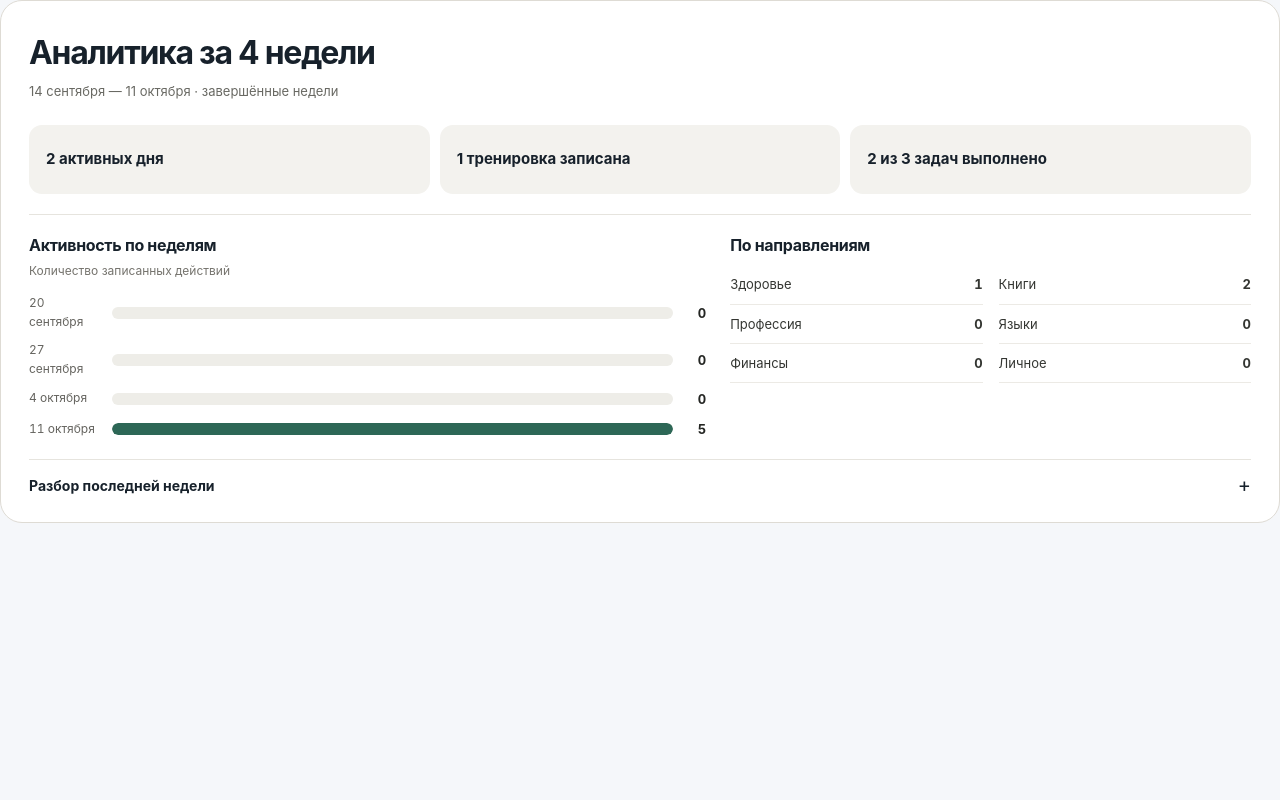
analytics shows real four-week trends and retains the training review inside details
Expected: the text "2 активных дня" is shown, [29, 125, 430, 194]
Expected: the text "1 тренировка записана" is shown, [440, 125, 840, 194]
Click the heading "Разбор последней недели" at (122, 485), box [29, 477, 215, 494]
(page scrolled)
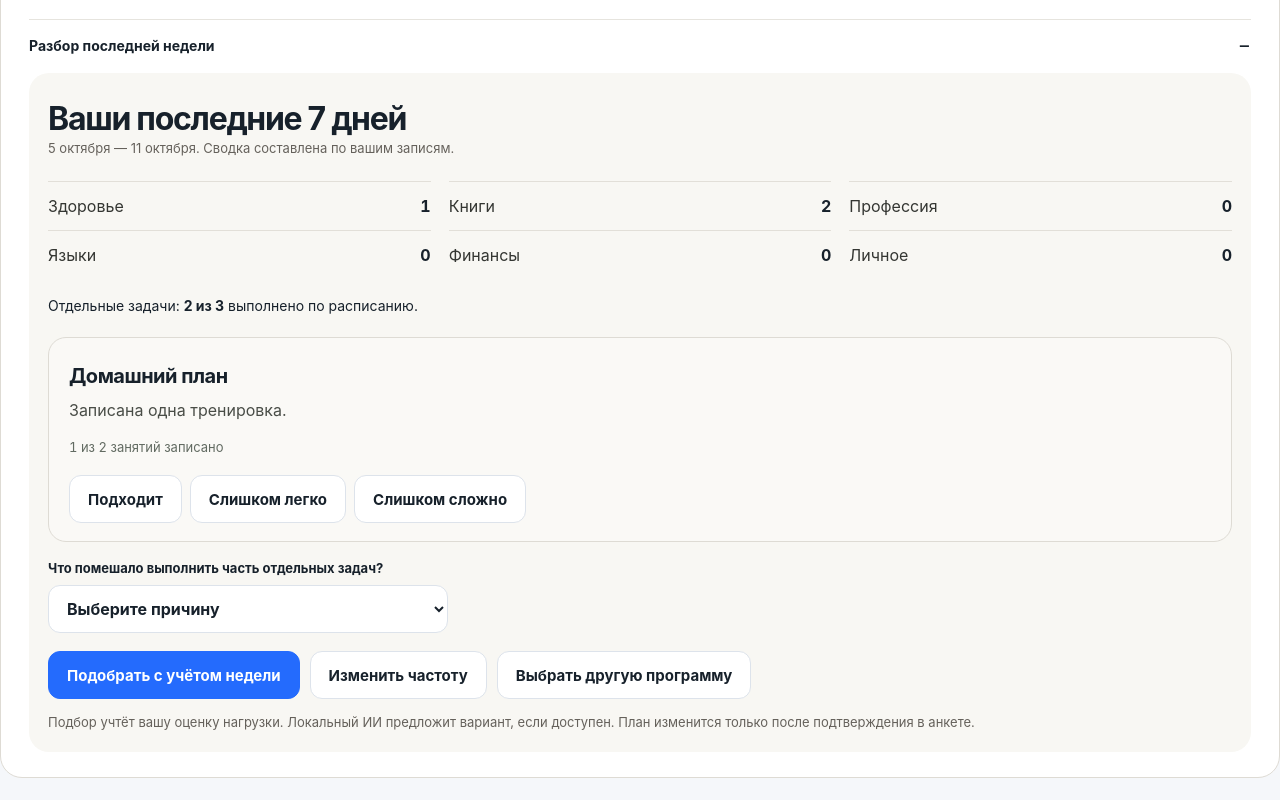
Expected: the heading "Домашний план" is shown, [69, 364, 228, 388]
Expected: the button "Слишком сложно" is shown, [354, 475, 526, 523]
